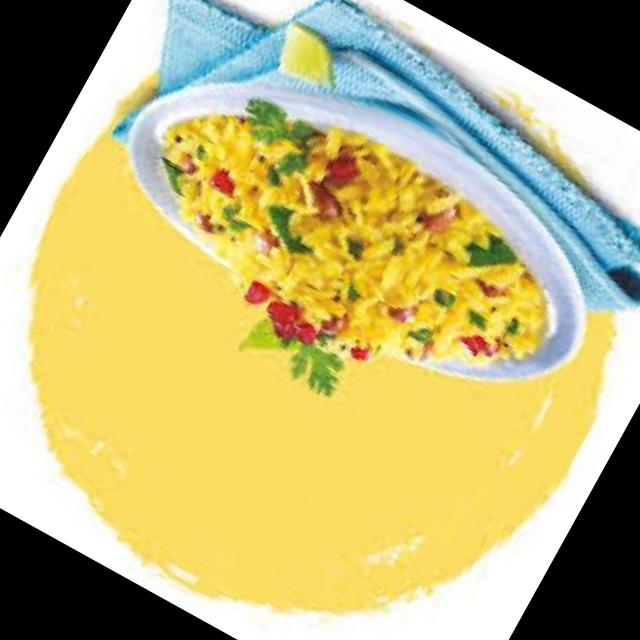poha: (107, 51, 588, 450)
